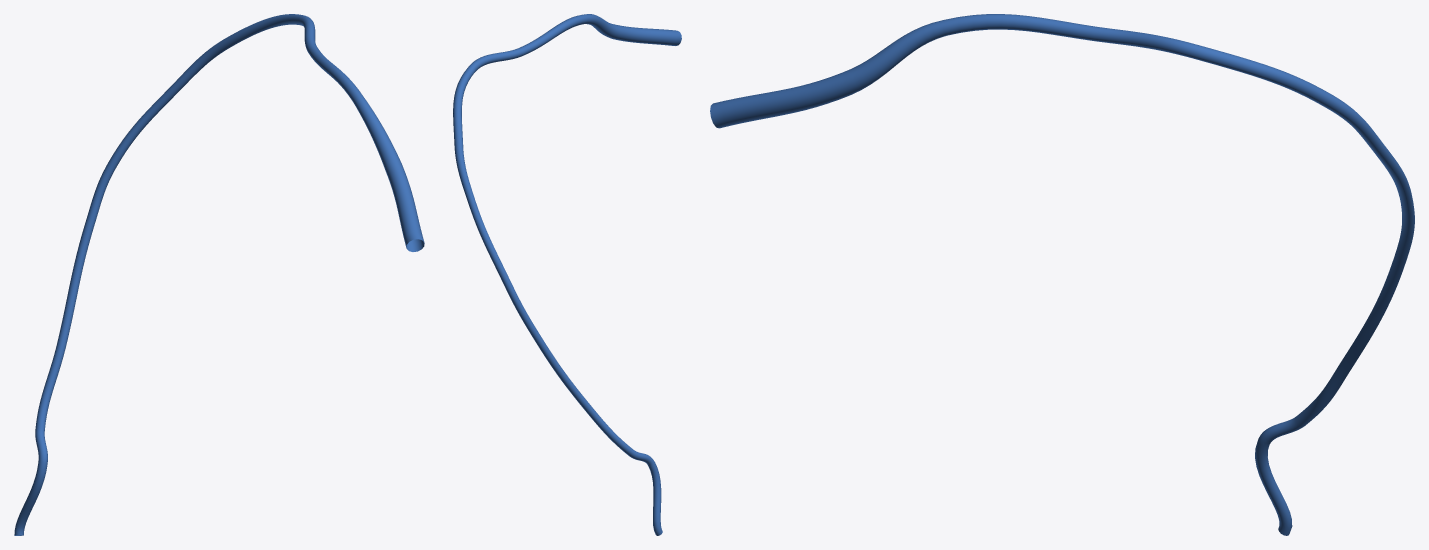
3 renders of one model, left to right at view 1: azimuth 30°, elevation 25°; view 2: azimuth 150°, elevation 25°; view 3: azimuth 270°, elevation 25°, orthographic. The views are drawn at different scales.
Visible parts, largest first — view 1: 左侧阴部内静脉; view 2: 左侧阴部内静脉; view 3: 左侧阴部内静脉.
Part boxes in pixels (box(x1,y1,x2,y2)): 左侧阴部内静脉: box(14, 14, 424, 535); 左侧阴部内静脉: box(453, 14, 681, 535); 左侧阴部内静脉: box(710, 14, 1414, 535).
Size of the model in its own units: 0.0757 by 0.1341 by 0.129.
